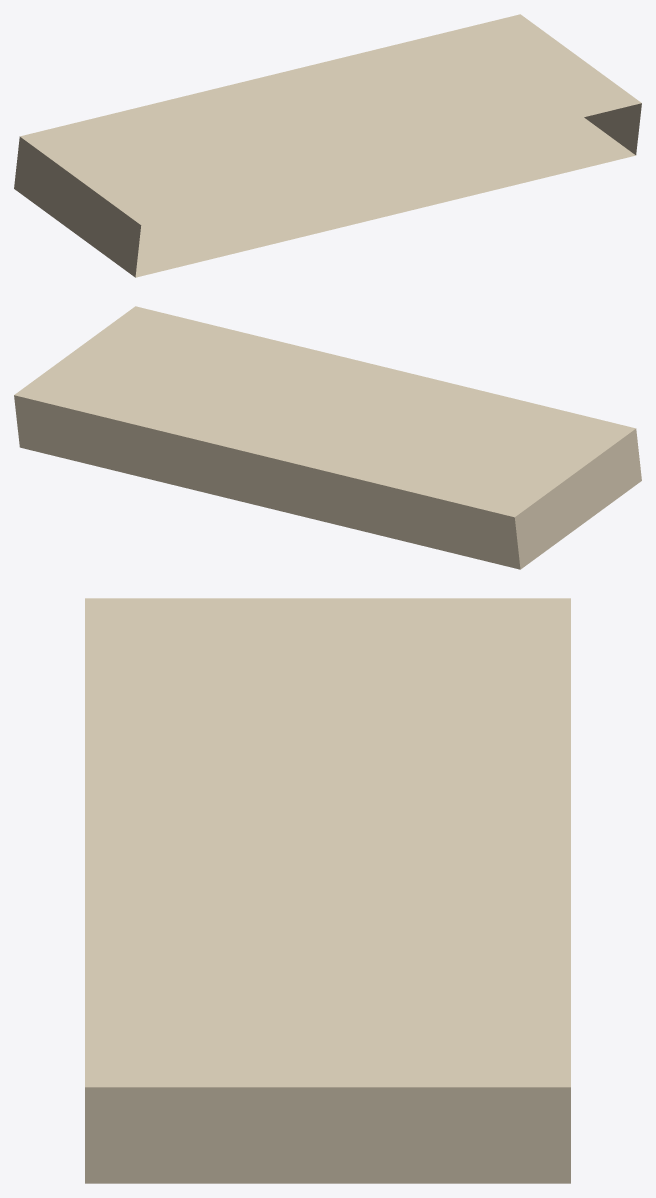
3 renders of one model, top to bottom at view 1: azimuth 30°, elevation 25°; view 2: azimuth 150°, elevation 25°; view 3: azimuth 270°, elevation 25°, orthographic. The views are drawn at different scales.
Parts seen in each view (by area): view 1: Object01; view 2: Object01; view 3: Object01.
Part boxes in pixels (x1,y1,x2,y2): Object01: (14,14,641,277); Object01: (14,306,641,569); Object01: (85,598,570,1183).
Bounding box in the file's own units: 31556 × 3036 × 13109.
